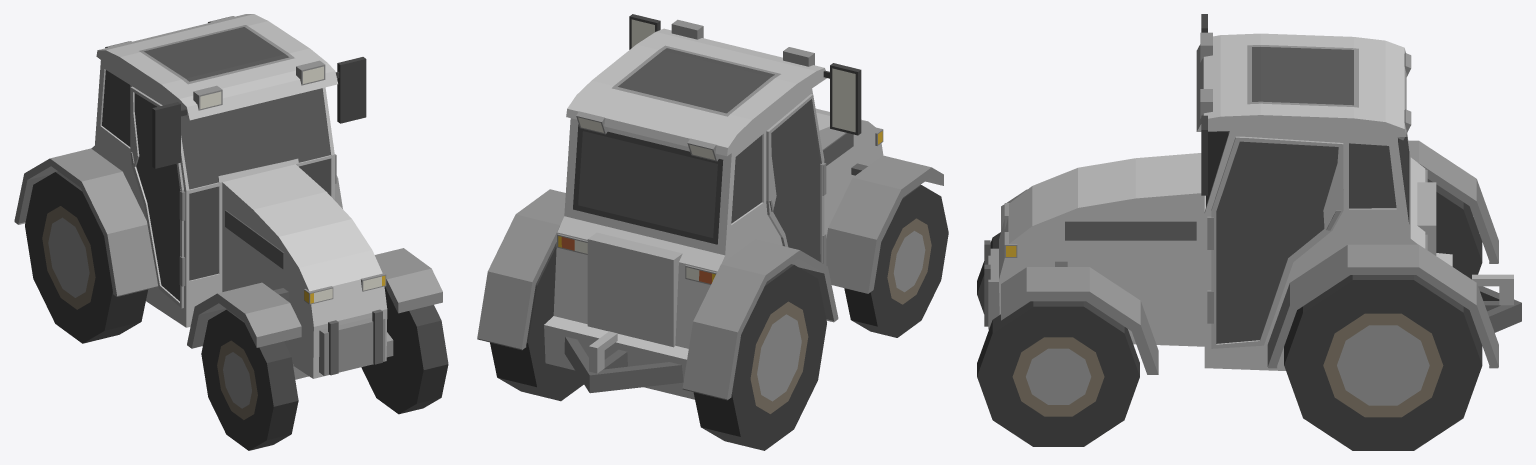
Rendered from kar.fbx.
3 views of the same model, side by side, from view 1: azimuth 30°, elevation 25°; view 2: azimuth 150°, elevation 25°; view 3: azimuth 270°, elevation 25° (orthographic). The views are drawn at different scales.
Visible parts, largest first — view 1: Boole_2, Cylinder_5, Cylinder_2, Cylinder; view 2: Boole_2, Cylinder_5, Cylinder_2, Cylinder_1; view 3: Boole_2, Cylinder_1, Cylinder, Cylinder_5.
Part boxes in pixels (x1,y1,x2,y2): Boole_2: [14, 14, 442, 379]; Cylinder_5: [25, 171, 148, 343]; Cylinder_2: [201, 309, 298, 450]; Cylinder: [361, 287, 448, 414]; Boole_2: [477, 14, 943, 400]; Cylinder_5: [693, 264, 826, 450]; Cylinder_2: [844, 185, 948, 337]; Cylinder_1: [490, 242, 583, 401]; Boole_2: [984, 14, 1521, 374]; Cylinder_1: [1284, 275, 1482, 450]; Cylinder: [977, 301, 1139, 446]; Cylinder_5: [1427, 179, 1482, 279].
Bounding box in the file's own units: 213 × 260 × 387.
